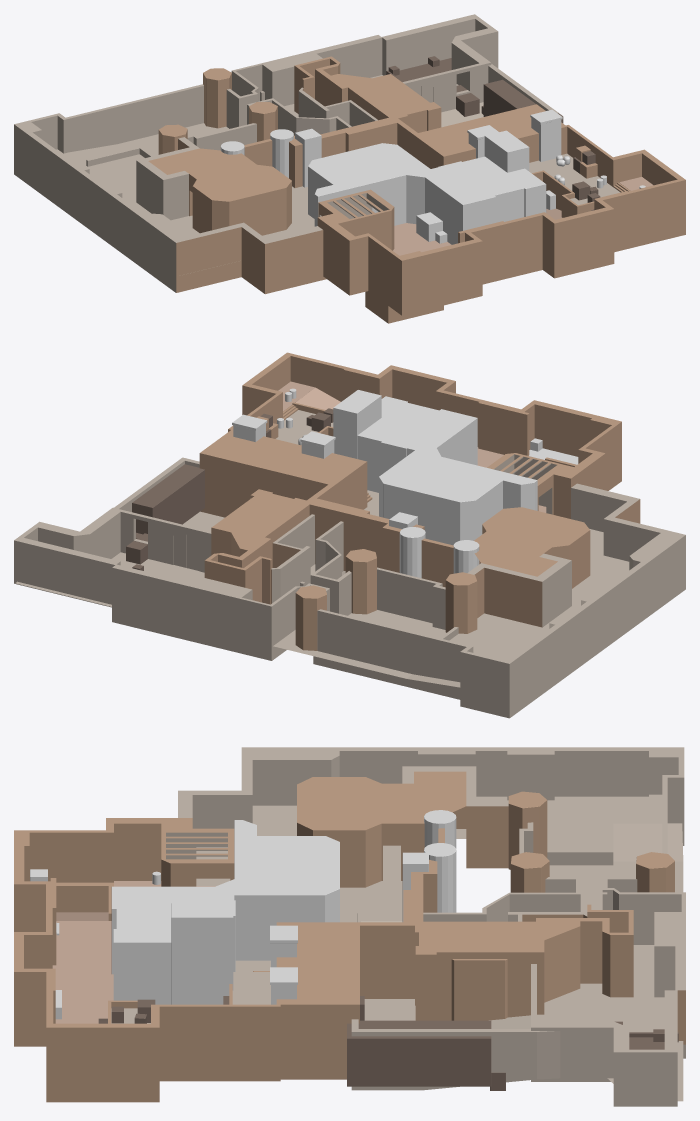
The model's file is DUST2_v0.0.6_alpha.fbx.
3 renders of one model, top to bottom at view 1: azimuth 30°, elevation 25°; view 2: azimuth 150°, elevation 25°; view 3: azimuth 270°, elevation 25°, orthographic. The views are drawn at different scales.
Parts seen in each view (by area): view 1: Cube.034, Cube.011, Cube.001, Cube.026, Cube.060, Cube.019, Cube.025, Cube.047, Cube.024, Cylinder.008, Cube.052, Cube.051 (+4 smaller); view 2: Cube.034, Cube.011, Cube.001, Cube.047, Cube.026, Cylinder.008, Cube.051, Cube.052, Cube.060, Cube.019, Cube.025, Cube.024; view 3: Cube.034, Cube.001, Cube.011, Cube.047, Cube.026, Cube.019, Cube.031, Cylinder.008, Cube.051, Cube.025, Cube.060, Cube.052 (+2 smaller).
Part boxes in pixels (bbox=[...]): Cube.034: bbox=[14, 14, 685, 323]; Cube.011: bbox=[308, 143, 546, 244]; Cube.001: bbox=[56, 64, 620, 273]; Cube.026: bbox=[484, 130, 529, 172]; Cube.060: bbox=[203, 68, 231, 128]; Cube.019: bbox=[393, 177, 653, 255]; Cube.025: bbox=[295, 125, 498, 187]; Cube.047: bbox=[483, 79, 563, 123]; Cube.024: bbox=[530, 109, 562, 161]; Cylinder.008: bbox=[220, 129, 293, 177]; Cube.052: bbox=[249, 102, 277, 141]; Cube.051: bbox=[158, 124, 187, 154]; Cube.034: bbox=[14, 352, 685, 718]; Cube.011: bbox=[357, 396, 537, 545]; Cube.001: bbox=[15, 410, 629, 687]; Cube.047: bbox=[132, 464, 204, 534]; Cube.026: bbox=[333, 390, 381, 458]; Cylinder.008: bbox=[399, 527, 479, 578]; Cube.051: bbox=[445, 572, 477, 633]; Cube.052: bbox=[345, 549, 376, 614]; Cube.060: bbox=[295, 585, 326, 650]; Cube.019: bbox=[278, 381, 546, 512]; Cube.025: bbox=[300, 431, 417, 529]; Cube.024: bbox=[232, 414, 267, 441]; Cube.034: bbox=[14, 747, 685, 1106]; Cube.001: bbox=[111, 794, 683, 1101]; Cube.011: bbox=[111, 820, 339, 1004]; Cube.047: bbox=[347, 1020, 491, 1086]; Cube.026: bbox=[171, 903, 233, 1004]; Cube.019: bbox=[52, 881, 215, 1023]; Cube.031: bbox=[451, 959, 507, 1020]; Cylinder.008: bbox=[424, 810, 456, 912]; Cube.051: bbox=[508, 791, 547, 869]; Cube.025: bbox=[270, 852, 428, 967]; Cube.060: bbox=[636, 852, 674, 892]; Cube.052: bbox=[510, 852, 549, 892].
Bounding box in the file's own units: 8065 × 1667 × 7503.
